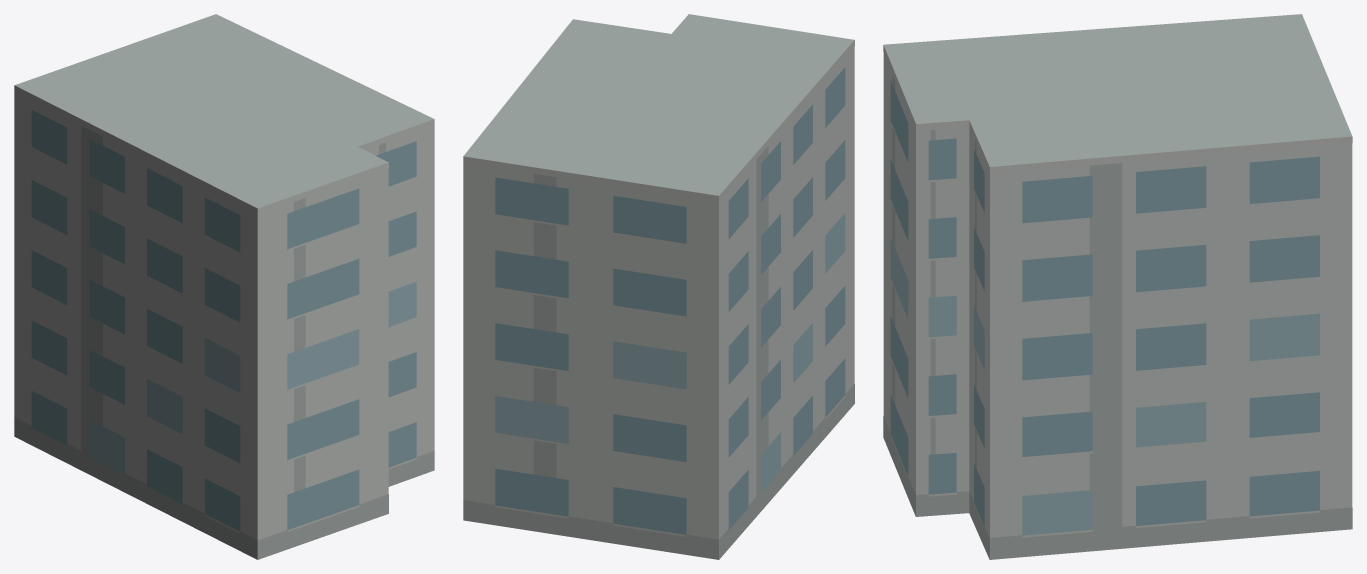
The model's file is survey-upis-32831158.glb.
3 renders of one model, left to right at view 1: azimuth 30°, elevation 25°; view 2: azimuth 150°, elevation 25°; view 3: azimuth 270°, elevation 25°, orthographic. The views are drawn at different scales.
Parts seen in each view (by area): view 1: survey-upis-32831158.tmp; view 2: survey-upis-32831158.tmp; view 3: survey-upis-32831158.tmp.
Boxes of the visible parts, bbox=[...] form: survey-upis-32831158.tmp: bbox=[14, 14, 434, 559]; survey-upis-32831158.tmp: bbox=[463, 14, 854, 559]; survey-upis-32831158.tmp: bbox=[883, 14, 1352, 559].
Bounding box in the file's own units: 11.46 × 13.7 × 14.83.
